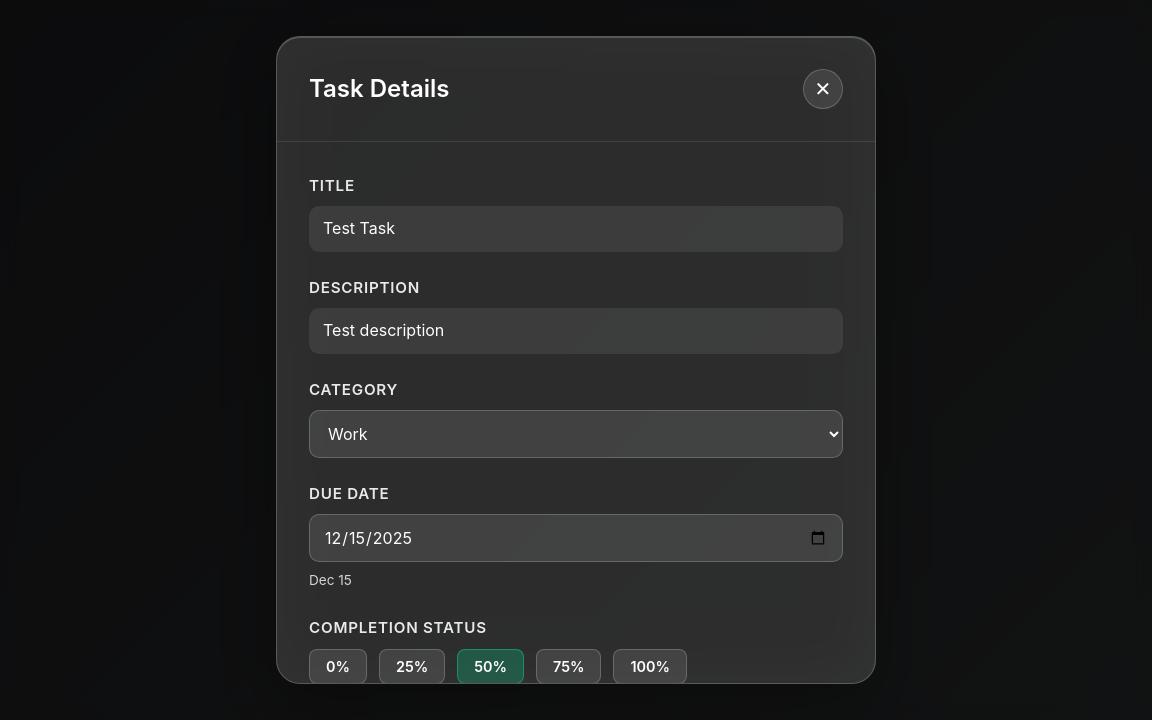
Scenario: TaskDetail Component › enters edit mode when title clicked
Click the text "Test Task".
click(576, 229)  # box [309,206,843,252]
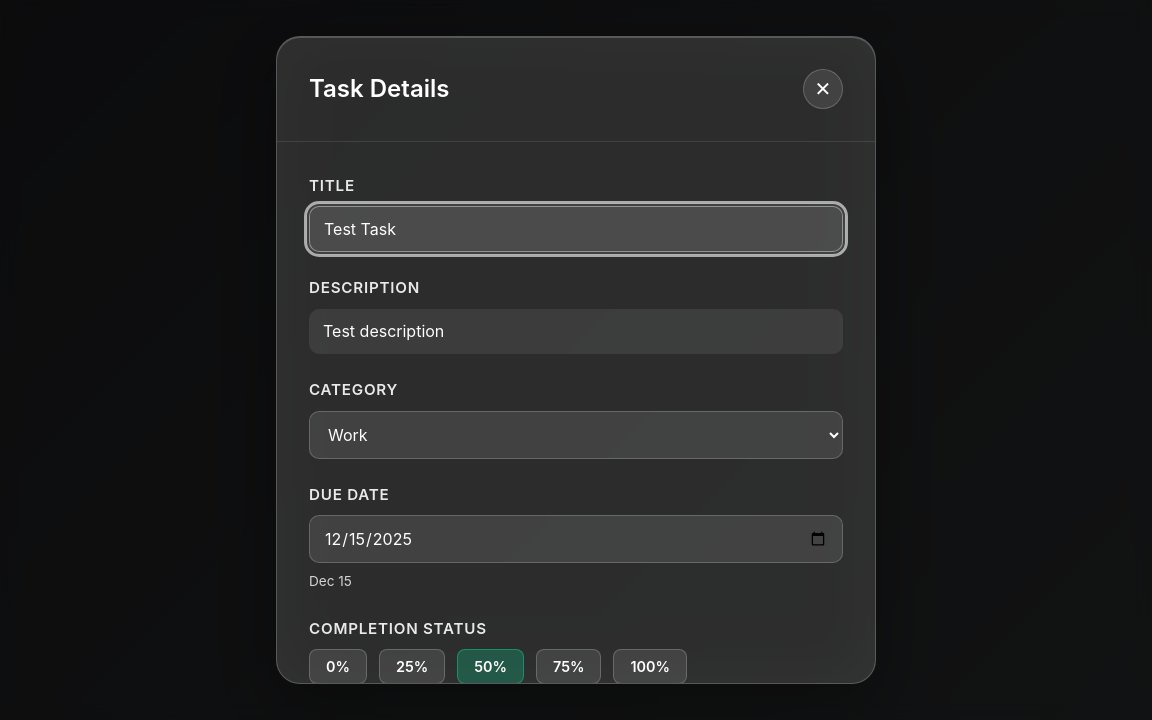
Now the field is shown, box [309,206,843,252]
